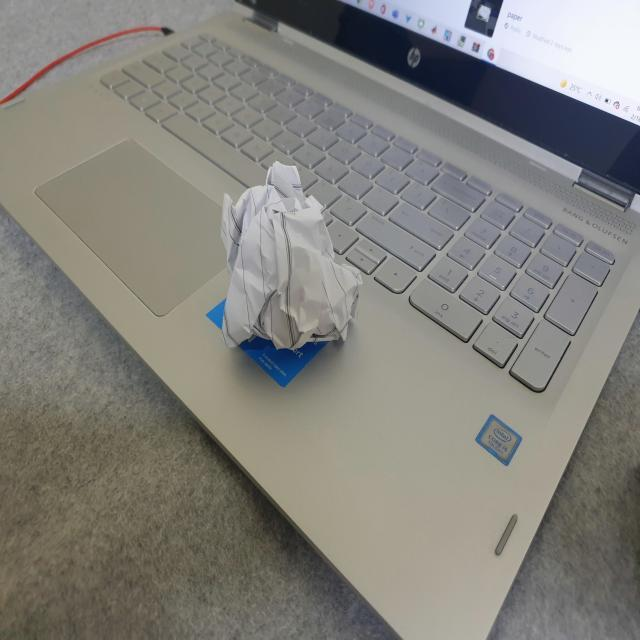Paper: (206, 142, 372, 361)
